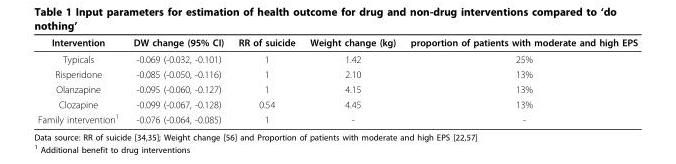table: (36, 36, 637, 124)
table column: (402, 36, 637, 124), (125, 36, 230, 124), (301, 36, 402, 124), (36, 36, 125, 124), (230, 36, 301, 124)
table column header: (36, 36, 637, 50)
table row: (36, 50, 637, 66), (36, 66, 637, 81), (36, 81, 637, 96), (36, 36, 637, 50), (36, 96, 637, 110), (36, 110, 637, 124)
